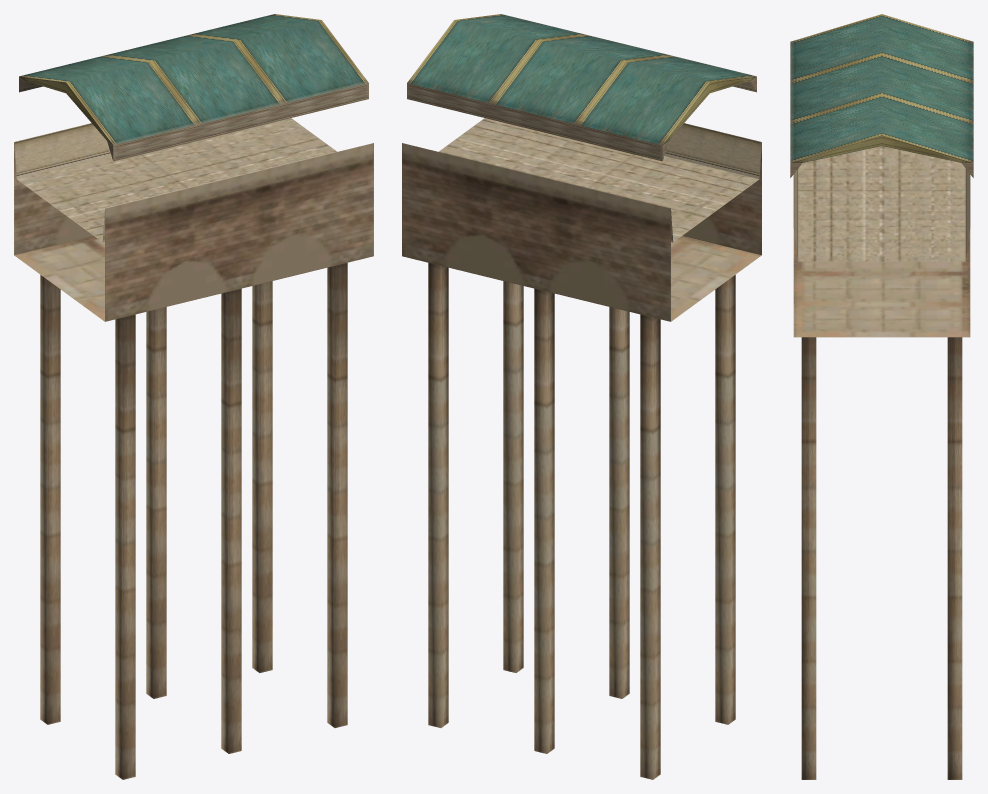
File: thm_nboo_imprv_enclosed_walkway_s01_l4.fbx
3 views of the same model, side by side, from view 1: azimuth 30°, elevation 25°; view 2: azimuth 150°, elevation 25°; view 3: azimuth 270°, elevation 25° (orthographic). The views are drawn at different scales.
Visible parts, largest first — view 1: mesh_node; view 2: mesh_node; view 3: mesh_node.
Part boxes in pixels (x1,y1,x2,y2): mesh_node: (14, 14, 373, 779); mesh_node: (402, 14, 761, 779); mesh_node: (790, 14, 973, 779).
Bounding box in the file's own units: 8.88 × 21.18 × 5.39.
